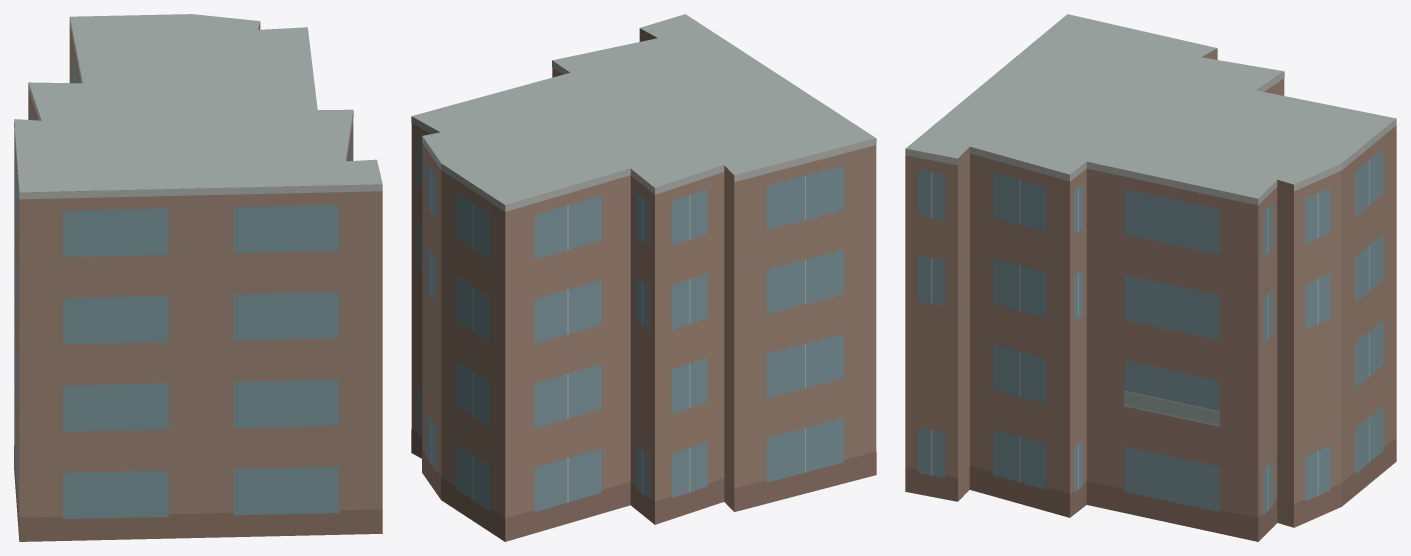
The model's file is survey-upis-32959017.glb.
3 views of the same model, side by side, from view 1: azimuth 30°, elevation 25°; view 2: azimuth 150°, elevation 25°; view 3: azimuth 270°, elevation 25° (orthographic). The views are drawn at different scales.
Parts seen in each view (by area): view 1: survey-upis-32959017.tmp; view 2: survey-upis-32959017.tmp; view 3: survey-upis-32959017.tmp.
Boxes of the visible parts, x1,y1,x2,y2 form: survey-upis-32959017.tmp: (14, 14, 382, 541); survey-upis-32959017.tmp: (411, 14, 876, 541); survey-upis-32959017.tmp: (905, 14, 1396, 541).
Bounding box in the file's own units: 14.09 × 12.2 × 15.83.
